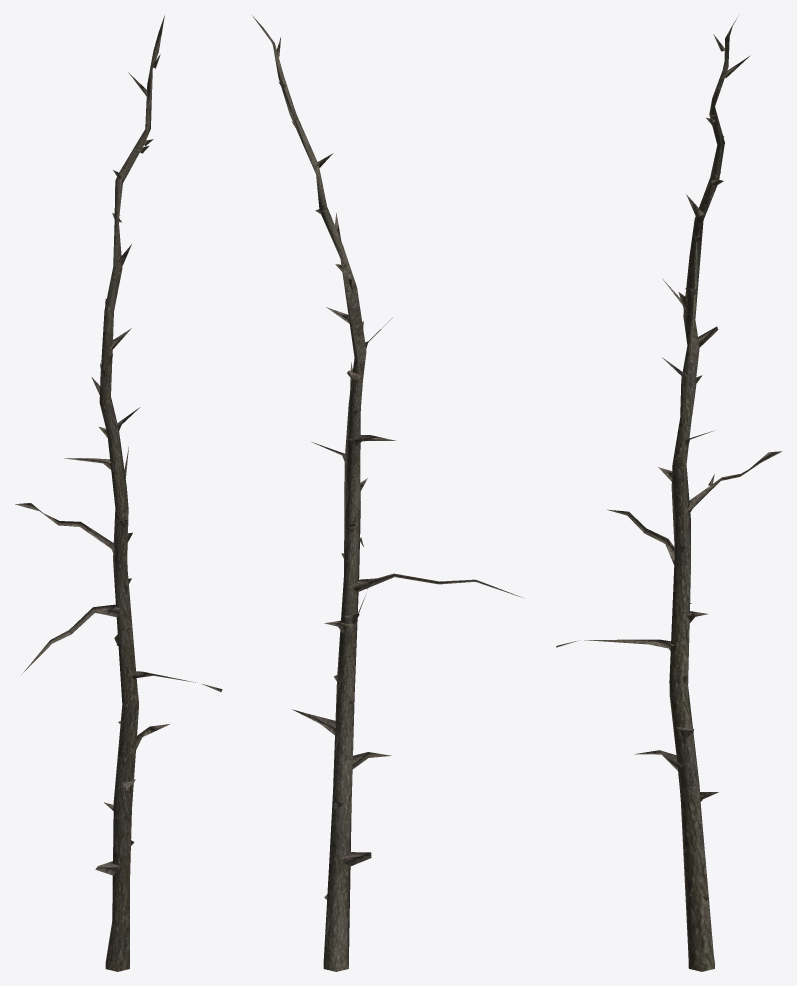
File: tundra-dead-pine-a-mid.glb
3 renders of one model, left to right at view 1: azimuth 30°, elevation 25°; view 2: azimuth 150°, elevation 25°; view 3: azimuth 270°, elevation 25°, orthographic. The views are drawn at different scales.
Visible parts, largest first — view 1: pine_dead_a_LOD0; view 2: pine_dead_a_LOD0; view 3: pine_dead_a_LOD0.
Part boxes in pixels (x1=…): pine_dead_a_LOD0: x1=15, y1=15, x2=222, y2=971; pine_dead_a_LOD0: x1=252, y1=15, x2=522, y2=971; pine_dead_a_LOD0: x1=556, y1=17, x2=781, y2=971.
Bounding box in the file's own units: 3.52 × 15 × 3.13.
1 material, 1 textured.
